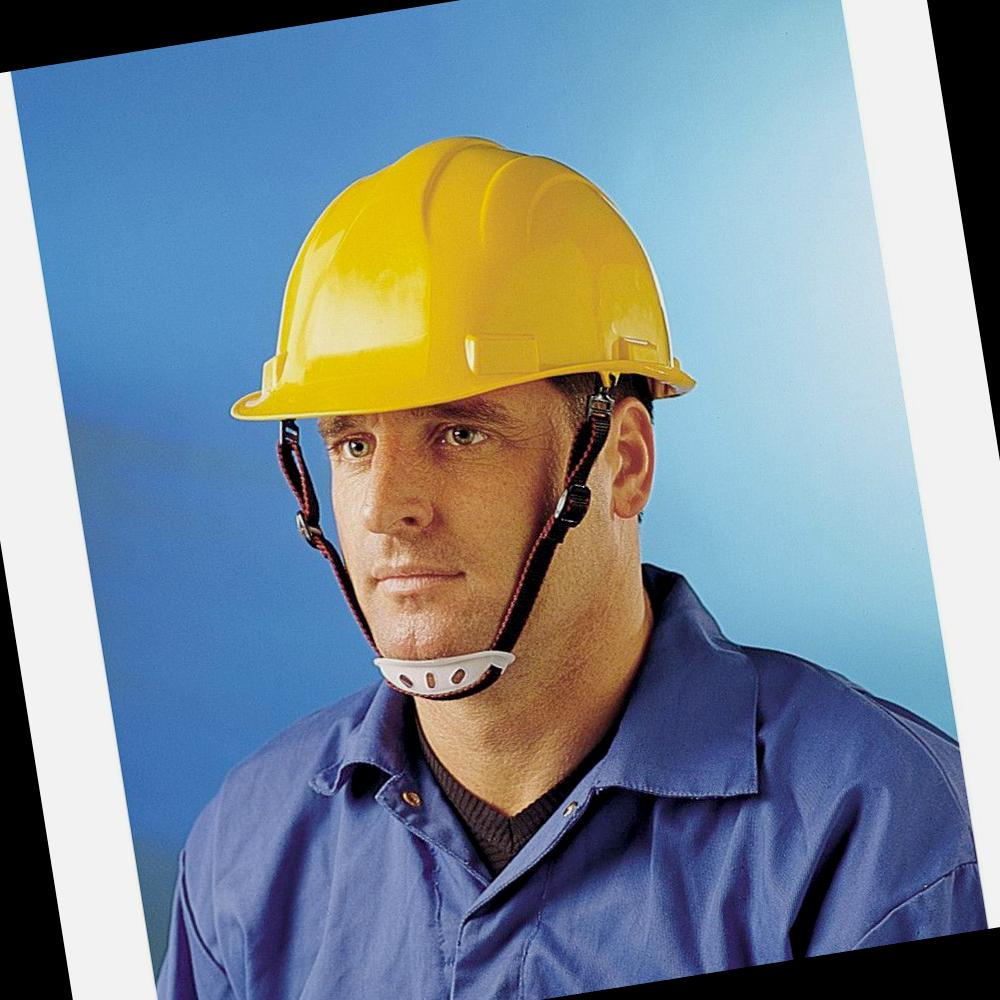helmet: (183, 98, 712, 465)
no_vest: (127, 613, 938, 1000)
person: (65, 59, 962, 1000)
